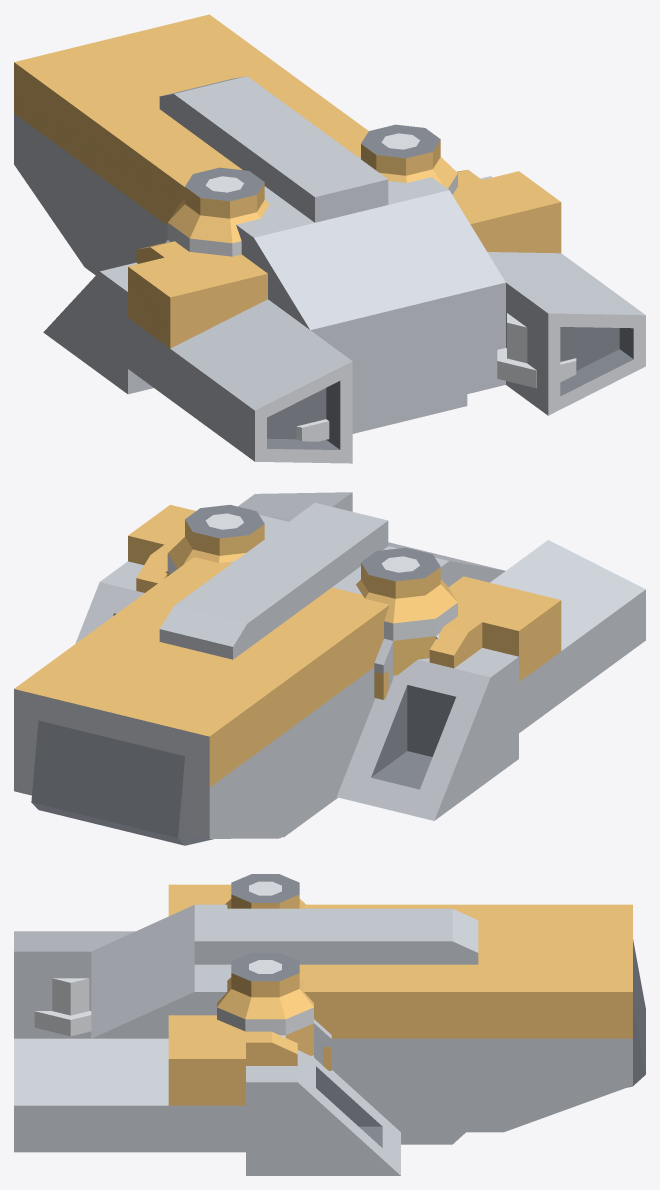
The model's file is craft_hauler.glb.
3 views of the same model, one above another, from view 1: azimuth 30°, elevation 25°; view 2: azimuth 150°, elevation 25°; view 3: azimuth 270°, elevation 25° (orthographic). The views are drawn at different scales.
Visible parts, largest first — view 1: craft_hauler; view 2: craft_hauler; view 3: craft_hauler.
Boxes of the visible parts, left/top/right/bottom form: craft_hauler: left=14, top=14, right=645, bottom=463; craft_hauler: left=14, top=492, right=645, bottom=845; craft_hauler: left=14, top=874, right=645, bottom=1175.
Size of the model in its own units: 1.6 by 0.8 by 2.45.
